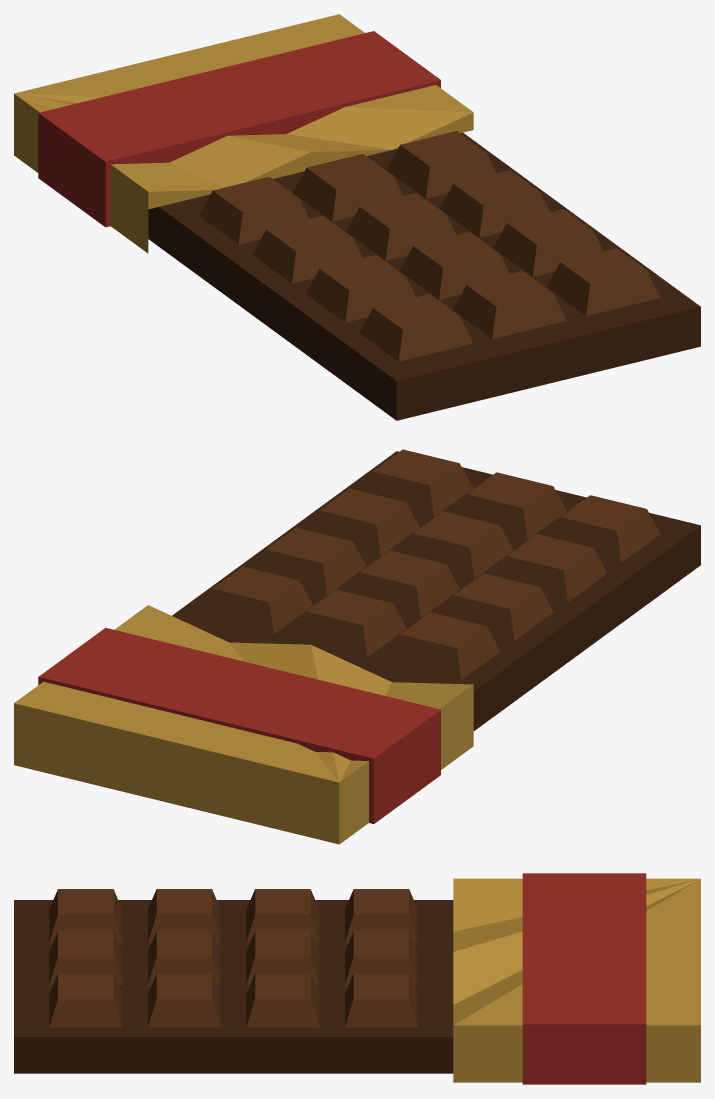
File: chocolate-bar-284f07.glb
3 renders of one model, top to bottom at view 1: azimuth 30°, elevation 25°; view 2: azimuth 150°, elevation 25°; view 3: azimuth 270°, elevation 25°, orthographic. The views are drawn at different scales.
Bounding box in the file's own units: 0.0794 × 0.016 × 0.1525.
